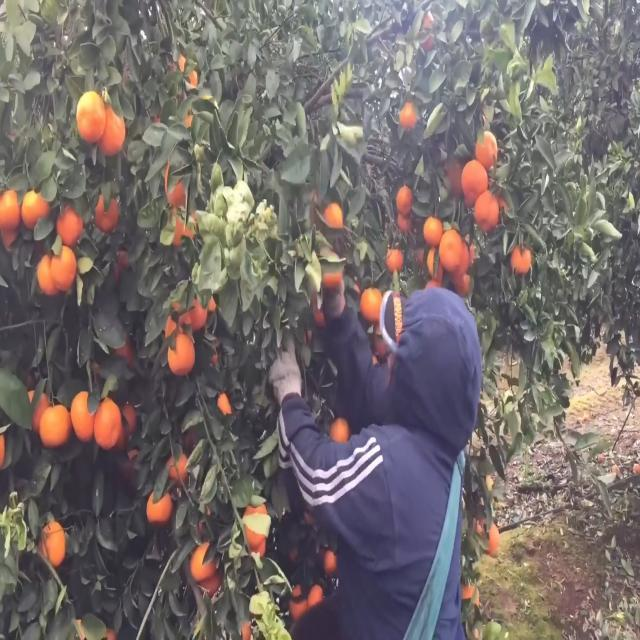Jeruk Sudah Matang: (75, 85, 108, 149), (94, 384, 123, 454), (36, 519, 70, 570), (38, 400, 72, 450), (68, 390, 100, 443), (20, 187, 52, 240), (102, 100, 130, 160), (49, 240, 78, 296), (242, 494, 271, 548), (164, 152, 190, 208), (89, 192, 120, 237), (188, 541, 220, 583), (166, 335, 197, 378), (460, 158, 490, 198), (184, 282, 209, 328), (474, 188, 500, 232), (57, 202, 83, 245), (1, 186, 22, 238), (439, 224, 462, 271), (145, 488, 172, 526), (473, 127, 498, 168), (510, 238, 531, 283), (163, 453, 190, 486), (36, 250, 56, 294), (328, 412, 351, 446), (362, 284, 384, 318), (324, 200, 346, 230), (423, 212, 442, 246), (395, 184, 413, 216), (400, 98, 417, 126), (386, 244, 402, 273)
